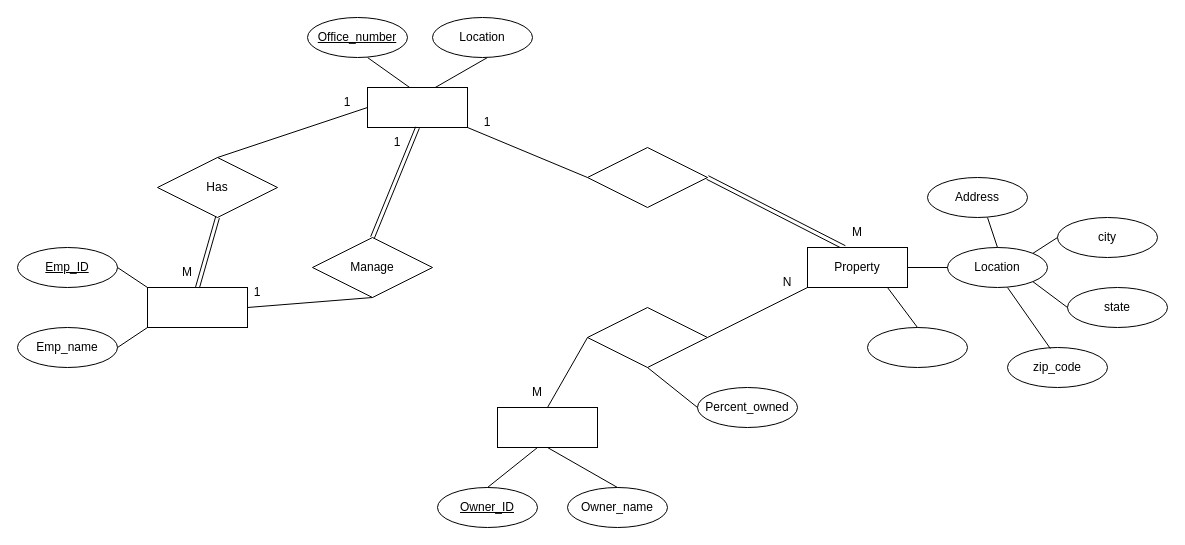
This 1185x545 diagram has some shape labels left out. Each missing label, with the centre of its shape:
"employee" goes at [197,307].
"List" goes at [647,177].
"Owner" goes at [547,427].
"owns" goes at [647,337].
"Property_ID" goes at [917,347].
"Sales_office" goes at [417,107].
